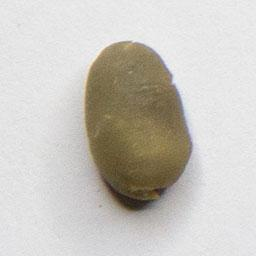peaberry: (79, 35, 197, 207)
